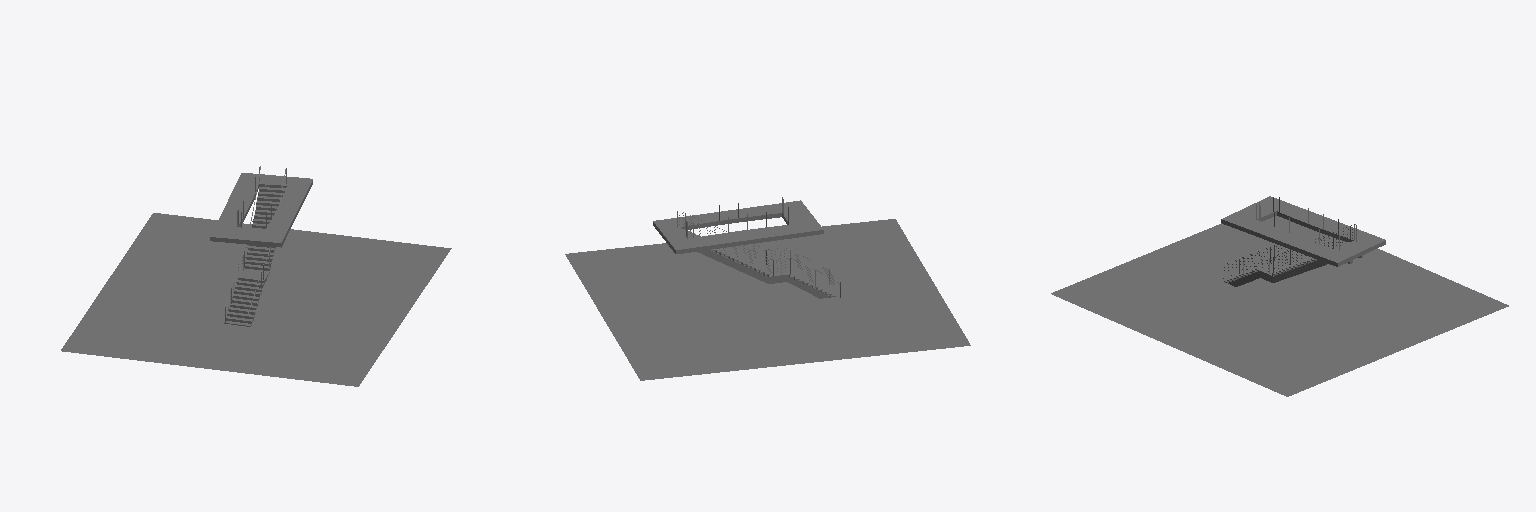
File: stair_model.obj
3 views of the same model, side by side, from view 1: azimuth 30°, elevation 25°; view 2: azimuth 150°, elevation 25°; view 3: azimuth 270°, elevation 25° (orthographic).
Visible parts, largest first — view 1: pPlane8 polySurface1, Default group5 polySurface1, group5 polySurface245 polySurface1; view 2: pPlane8 polySurface1, Default group5 polySurface1, group5 polySurface245 polySurface1, group5 loftedSurface30 polySurface1; view 3: pPlane8 polySurface1, Default group5 polySurface1, group5 loftedSurface31 polySurface1, group5 polySurface245 polySurface1.
Boxes of the visible parts, x1=… form: pPlane8 polySurface1: x1=61, y1=213, x2=451, y2=386; Default group5 polySurface1: x1=210, y1=173, x2=312, y2=247; group5 polySurface245 polySurface1: x1=224, y1=185, x2=285, y2=326; pPlane8 polySurface1: x1=565, y1=219, x2=970, y2=380; Default group5 polySurface1: x1=653, y1=200, x2=823, y2=253; group5 polySurface245 polySurface1: x1=683, y1=229, x2=835, y2=296; group5 loftedSurface30 polySurface1: x1=698, y1=250, x2=831, y2=298; pPlane8 polySurface1: x1=1051, y1=216, x2=1508, y2=396; Default group5 polySurface1: x1=1221, y1=196, x2=1385, y2=266; group5 loftedSurface31 polySurface1: x1=1228, y1=260, x2=1352, y2=286; group5 polySurface245 polySurface1: x1=1224, y1=242, x2=1349, y2=282.
Size of the model in its own units: 1106 by 277 by 1104.